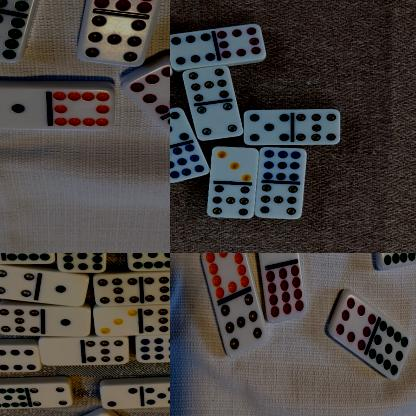pip-1: (0, 86, 48, 130), (36, 273, 88, 307), (42, 306, 90, 338), (252, 253, 295, 269)
pip-10: (49, 88, 114, 131), (199, 253, 248, 300)
pip-11: (369, 321, 411, 381), (0, 10, 23, 63), (57, 253, 105, 272), (127, 253, 170, 271), (379, 253, 415, 272), (0, 386, 28, 410), (1, 253, 54, 264)
pip-12: (264, 267, 306, 325), (86, 0, 169, 14)
pip-2: (101, 384, 142, 410)
pip-3: (207, 146, 258, 182), (92, 308, 139, 337)
pip-4: (195, 102, 241, 142), (0, 265, 35, 300), (29, 384, 70, 409)
pip-5: (243, 110, 291, 146), (170, 107, 189, 147), (141, 382, 170, 408)
pip-6: (170, 27, 214, 71), (0, 347, 39, 373)
pip-7: (74, 14, 146, 67), (218, 296, 265, 358), (182, 66, 236, 102), (254, 182, 301, 220), (292, 109, 340, 146), (204, 185, 254, 220), (92, 276, 140, 307), (84, 338, 129, 366), (0, 307, 41, 336), (139, 304, 170, 334), (142, 272, 170, 304)
pip-8: (119, 63, 170, 114), (329, 296, 375, 352), (215, 25, 265, 61)
pip-9: (258, 147, 306, 183), (170, 143, 208, 184), (134, 336, 170, 363)
